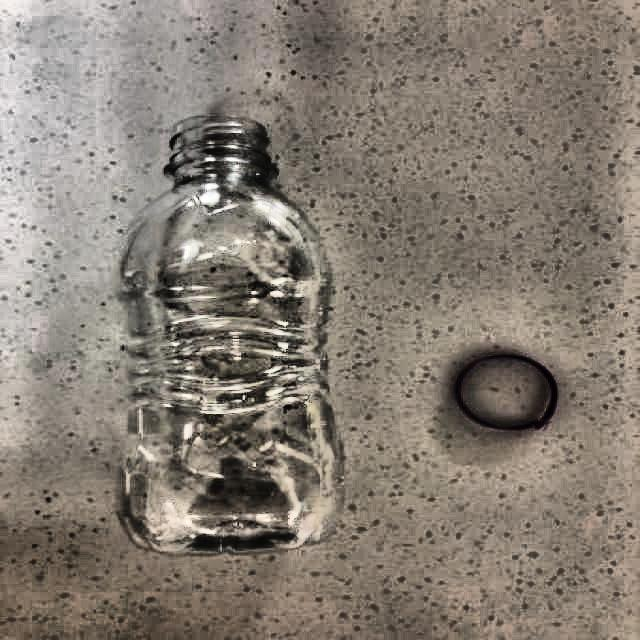plastic bottle: (123, 116, 340, 554)
